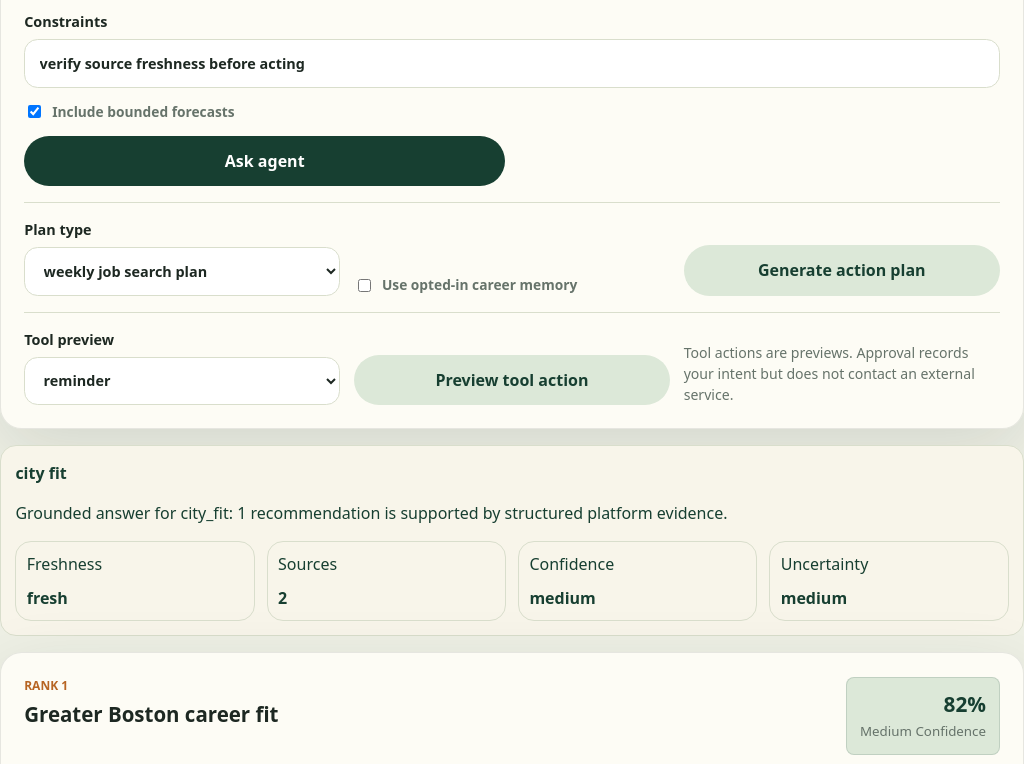
it: CareerAgentPage › export preview redacts private fields by default
(page scrolled)
expect the heading "Greater Boston career fit" is shown: met, box [24,703,278,725]
Select "career report export" in the dropdown labelled "Tool preview" at (182, 381), box [24,356,340,405]
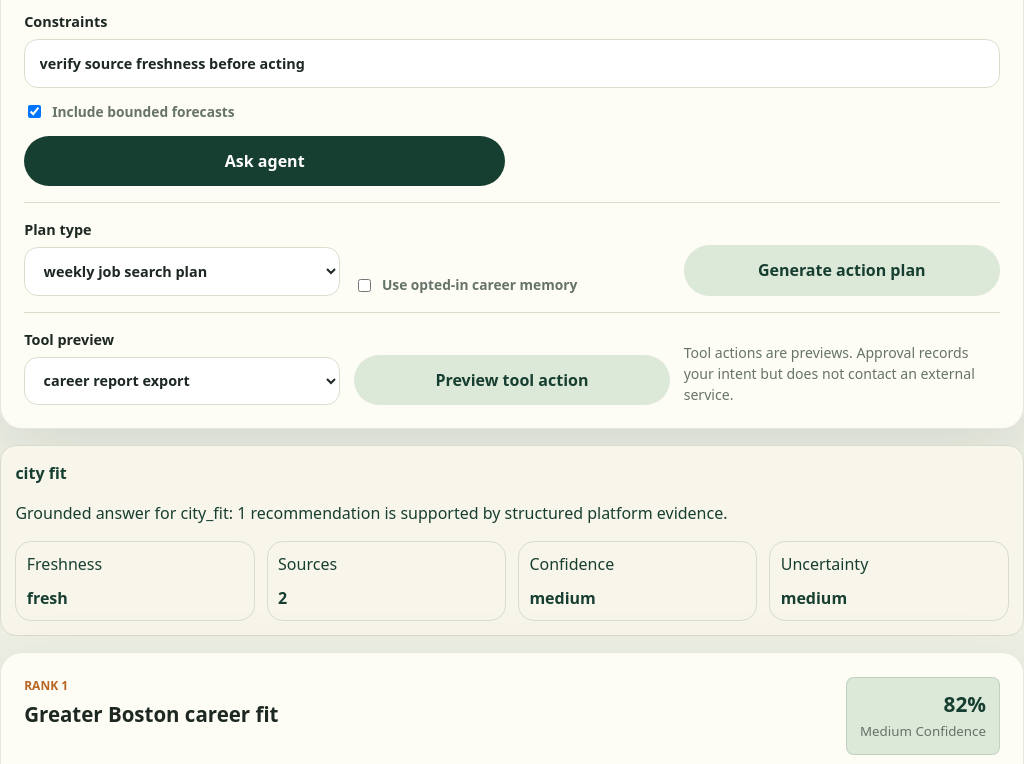
Click the button "Preview tool action" at (512, 380), box [354,355,670,405]
(page scrolled)
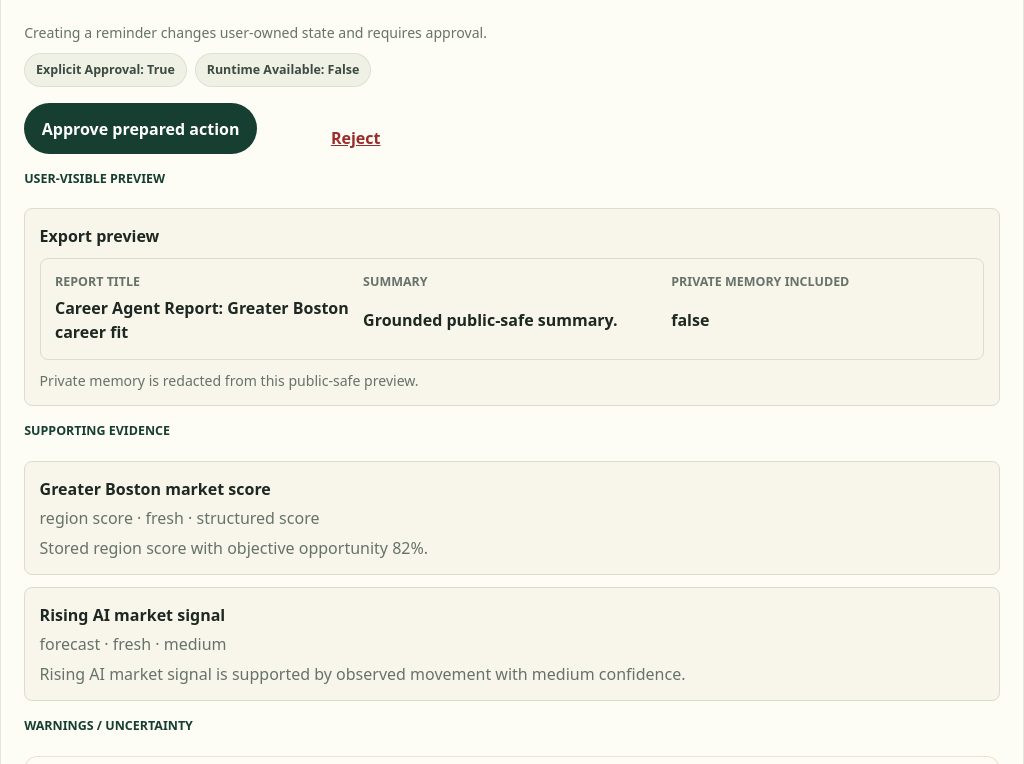
expect the text "Export preview" is shown: met, box [40,225,159,247]
expect the text "Career Agent Report: Greater Boston career fit" is shown: met, box [55,296,353,344]
expect the text "Private memory is redacted from this public-safe preview." is shown: met, box [40,371,419,390]
